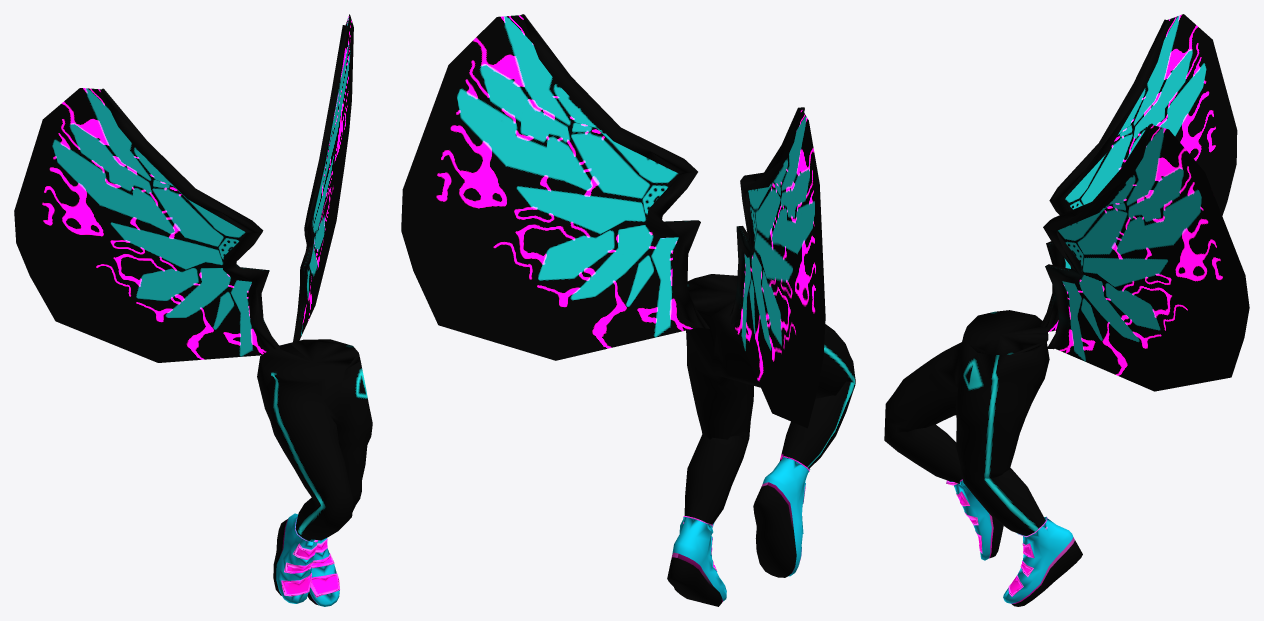
Rendered from Alas_Man_N.glb.
The picture shows the model from 3 angles, left to right: view 1: azimuth 30°, elevation 25°; view 2: azimuth 150°, elevation 25°; view 3: azimuth 270°, elevation 25°; orthographic projection. The views are drawn at different scales.
Visible parts, largest first — view 1: Lengg_alas; view 2: Lengg_alas; view 3: Lengg_alas.
Part boxes in pixels (bbox=[...]): Lengg_alas: bbox=[14, 14, 372, 606]; Lengg_alas: bbox=[401, 14, 855, 606]; Lengg_alas: bbox=[884, 14, 1249, 606].
Size of what is drawn, in the model's own units: 1.34 by 1.92 by 1.21.
Materials: 1 (1 with a texture image).
